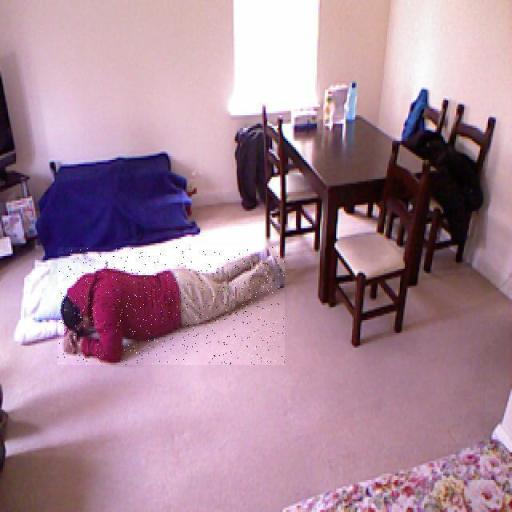Fall: (58, 247, 285, 365)
